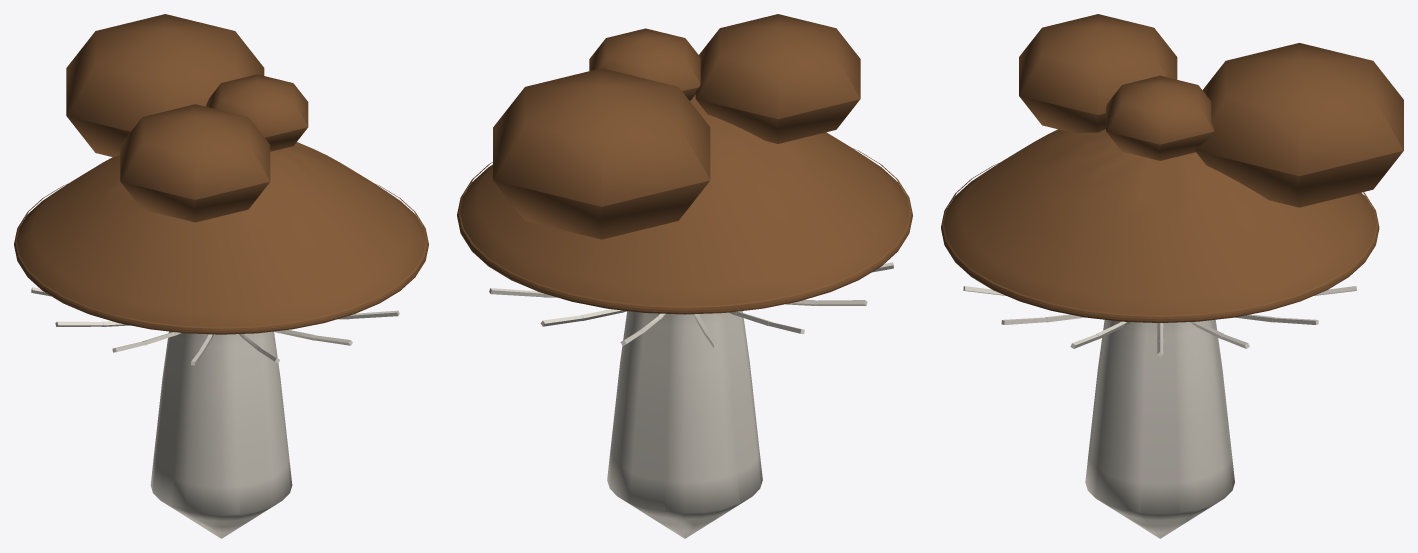
Rendered from mushroom-brown.glb.
The picture shows the model from 3 angles, left to right: view 1: azimuth 30°, elevation 25°; view 2: azimuth 150°, elevation 25°; view 3: azimuth 270°, elevation 25°; orthographic projection. The views are drawn at different scales.
Visible parts, largest first — view 1: mushroom-brown-cap, mushroom-brown, mushroom-brown-gills; view 2: mushroom-brown-cap, mushroom-brown, mushroom-brown-gills; view 3: mushroom-brown-cap, mushroom-brown, mushroom-brown-gills.
Part boxes in pixels (x1,y1,x2,y2): mushroom-brown-cap: [14, 14, 428, 334]; mushroom-brown: [150, 331, 292, 538]; mushroom-brown-gills: [31, 287, 399, 365]; mushroom-brown-cap: [457, 14, 912, 314]; mushroom-brown: [607, 311, 762, 538]; mushroom-brown-gills: [489, 262, 893, 348]; mushroom-brown-cap: [941, 14, 1403, 322]; mushroom-brown: [1085, 319, 1234, 538]; mushroom-brown-gills: [963, 286, 1356, 357].
Size of the model in its own units: 0.2107 by 0.2569 by 0.2225.
